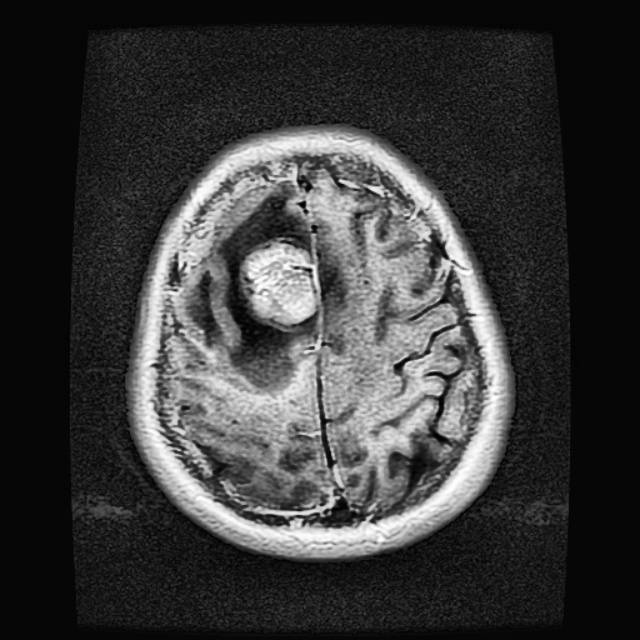Pituitary: (244, 242, 319, 324)
